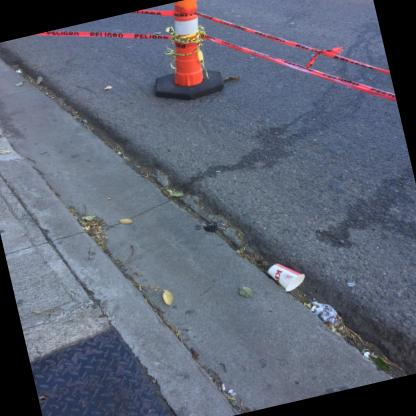Metal: (347, 282, 356, 287)
Paper: (268, 263, 305, 291), (311, 301, 340, 327), (310, 305, 317, 312)
